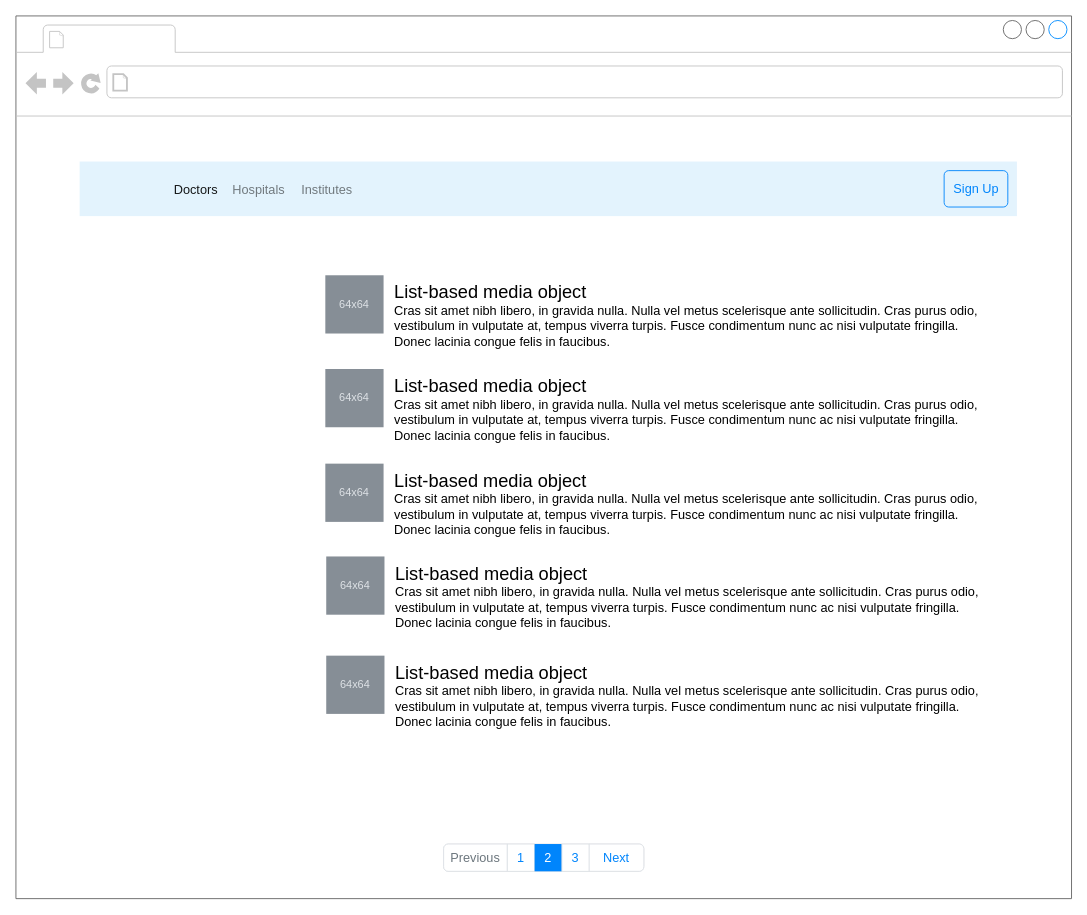
Image size: 1087x915. Some labels were removed from this diagram. The shapes that lost their labels are listed below. From the top down, each one's centre as x and y in pixels, then its label:
the point at 120,38: doctor list
the point at 247,82: https://www.opencare.com
the point at 547,188: Open Care
